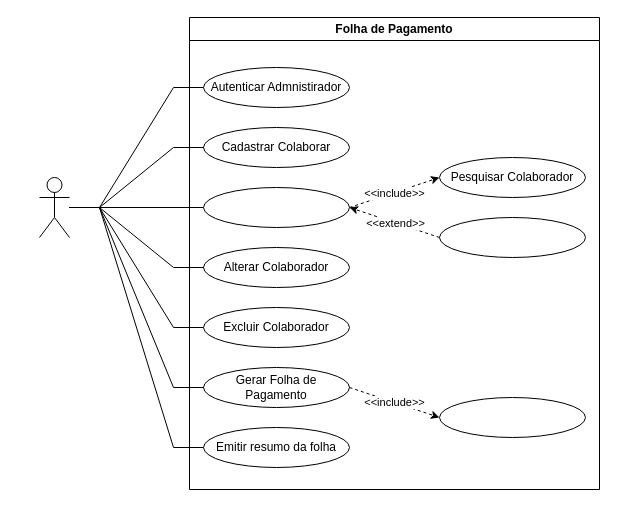
This 617x507 diagram has some shape labels left out. Each missing label, with the centre of its shape:
"Administrador" belongs at (x=54, y=207).
"Calcular Salário" belongs at (x=512, y=417).
"Consultar Colaboradores" belongs at (x=276, y=207).
"Filtrar Colaboradores" belongs at (x=512, y=237).
